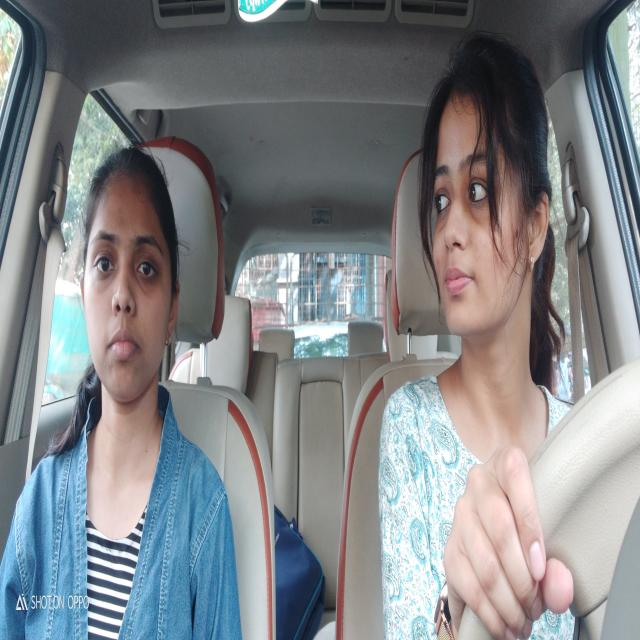LeftRight: (422, 58, 552, 329)
person: (76, 156, 180, 407)
